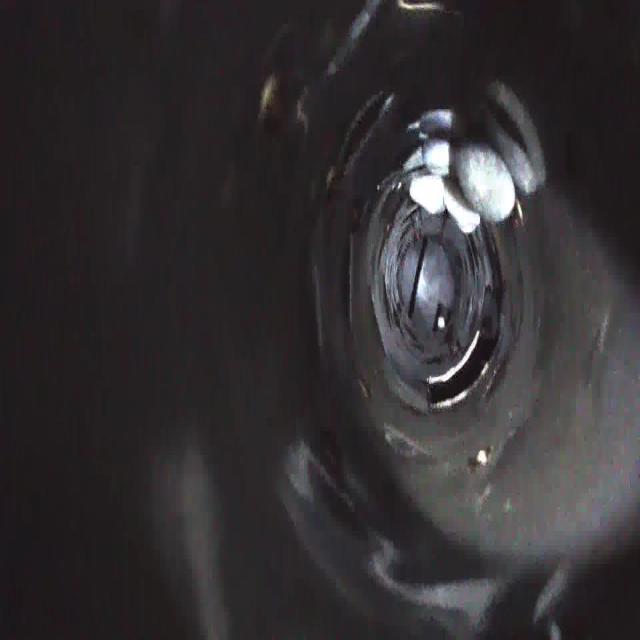crack: (462, 242, 499, 316), (366, 242, 396, 326)
hole: (423, 333, 503, 411)
